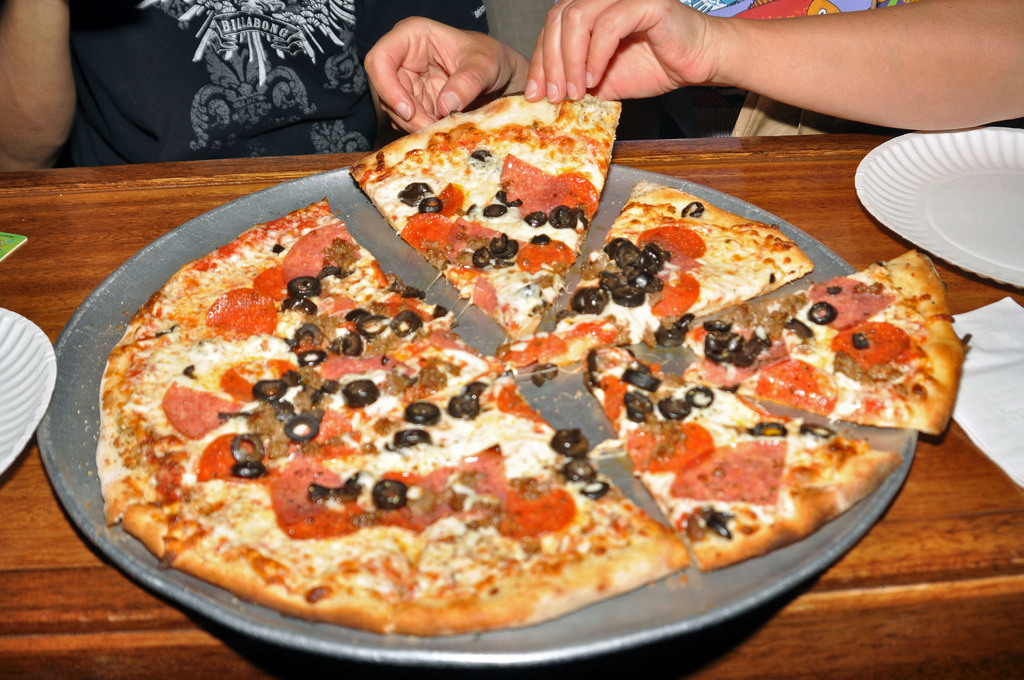Pizza: (101, 195, 702, 651), (576, 340, 920, 573), (346, 83, 609, 343), (652, 248, 975, 443), (534, 185, 815, 375)
